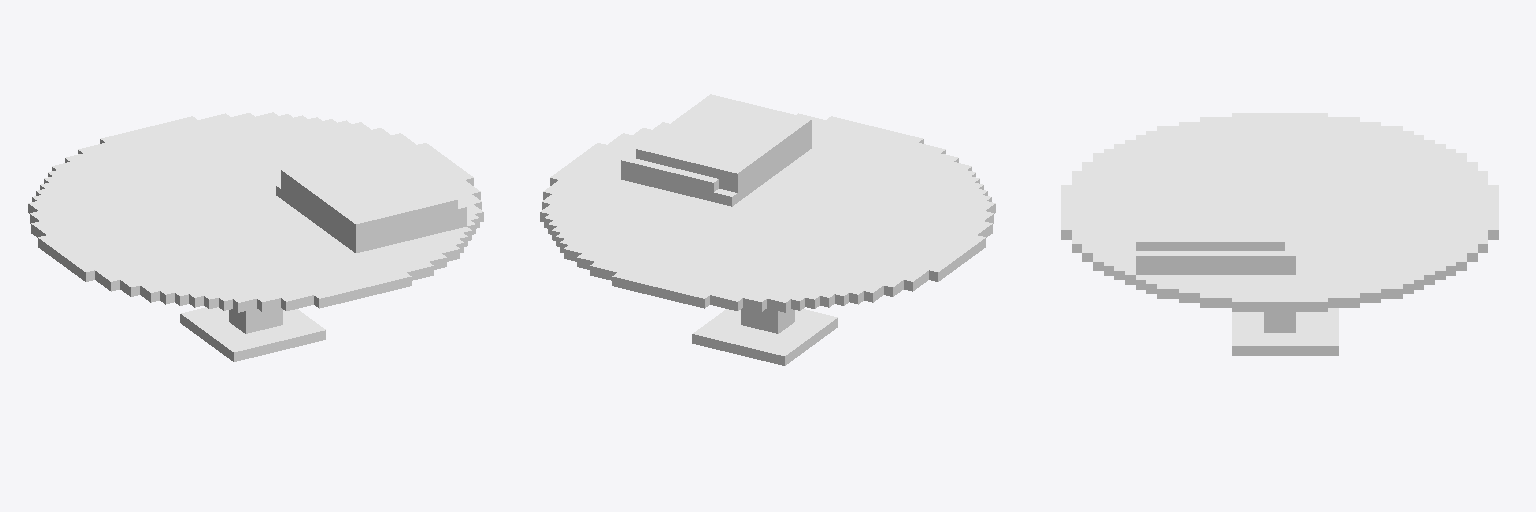
Rendered from mesa2.obj.
3 views of the same model, side by side, from view 1: azimuth 30°, elevation 25°; view 2: azimuth 150°, elevation 25°; view 3: azimuth 270°, elevation 25° (orthographic).
Parts seen in each view (by area): view 1: object 1; view 2: object 1; view 3: object 1.
Part boxes in pixels (left/top/right/bottom): object 1: left=28, top=112, right=483, bottom=361; object 1: left=540, top=94, right=995, bottom=365; object 1: left=1061, top=113, right=1498, bottom=355.
Bounding box in the file's own units: 4.2 × 1.6 × 4.1.